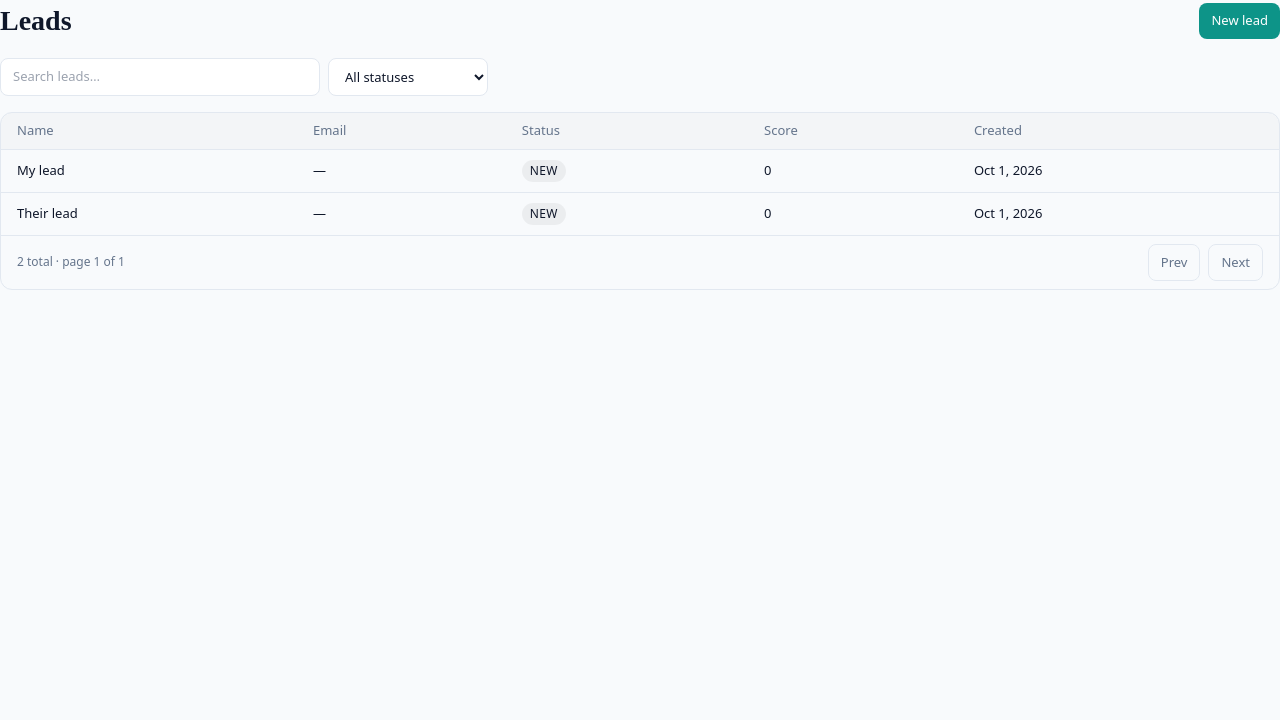
Scenario: lead edit dialog › is editable for a member on their own record
Click the text "My lead" at (41, 170), box top-left (1, 149), bottom-right (297, 192)
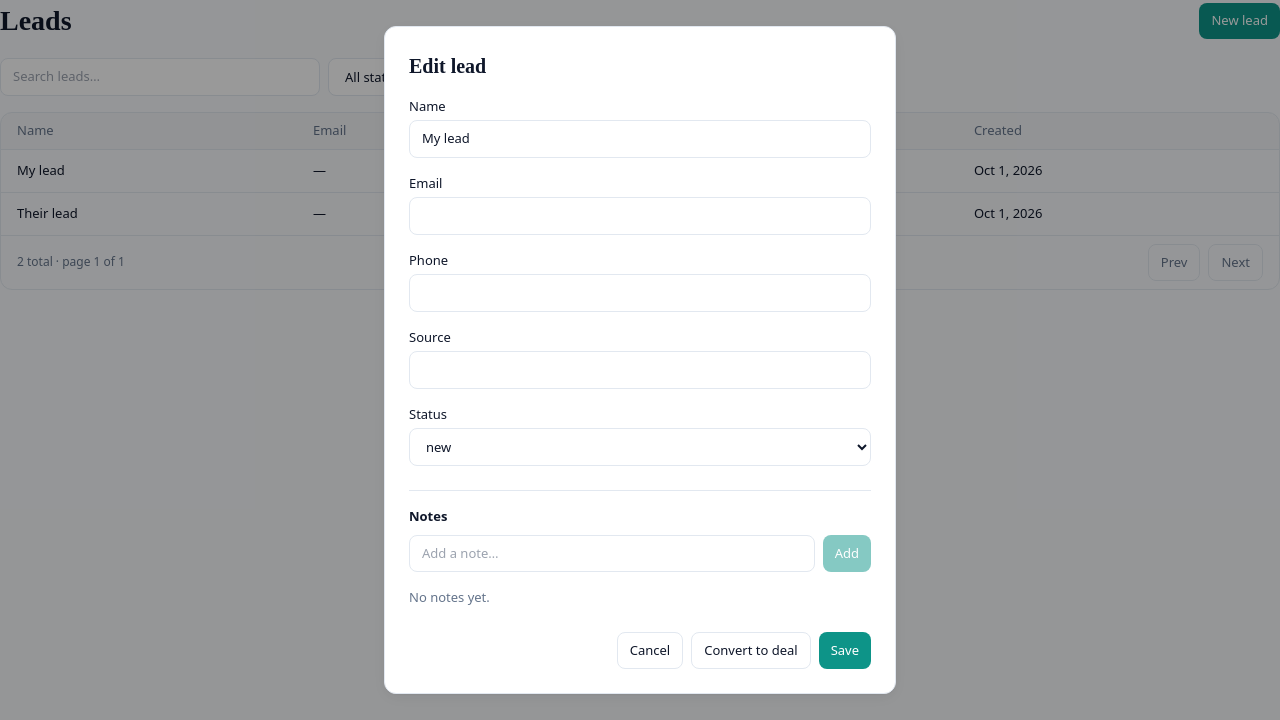
expect the button "Save" is enabled: met, box top-left (819, 632), bottom-right (871, 669)
expect the button "Convert to deal" is shown: met, box top-left (691, 632), bottom-right (811, 669)
